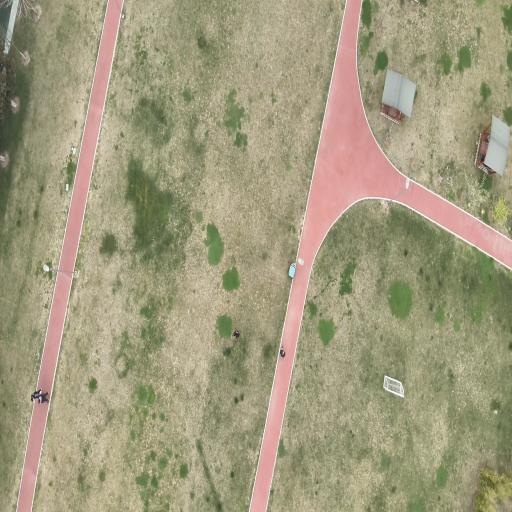person: (31, 389, 41, 401), (39, 392, 48, 403), (233, 330, 240, 339), (280, 347, 285, 359)
